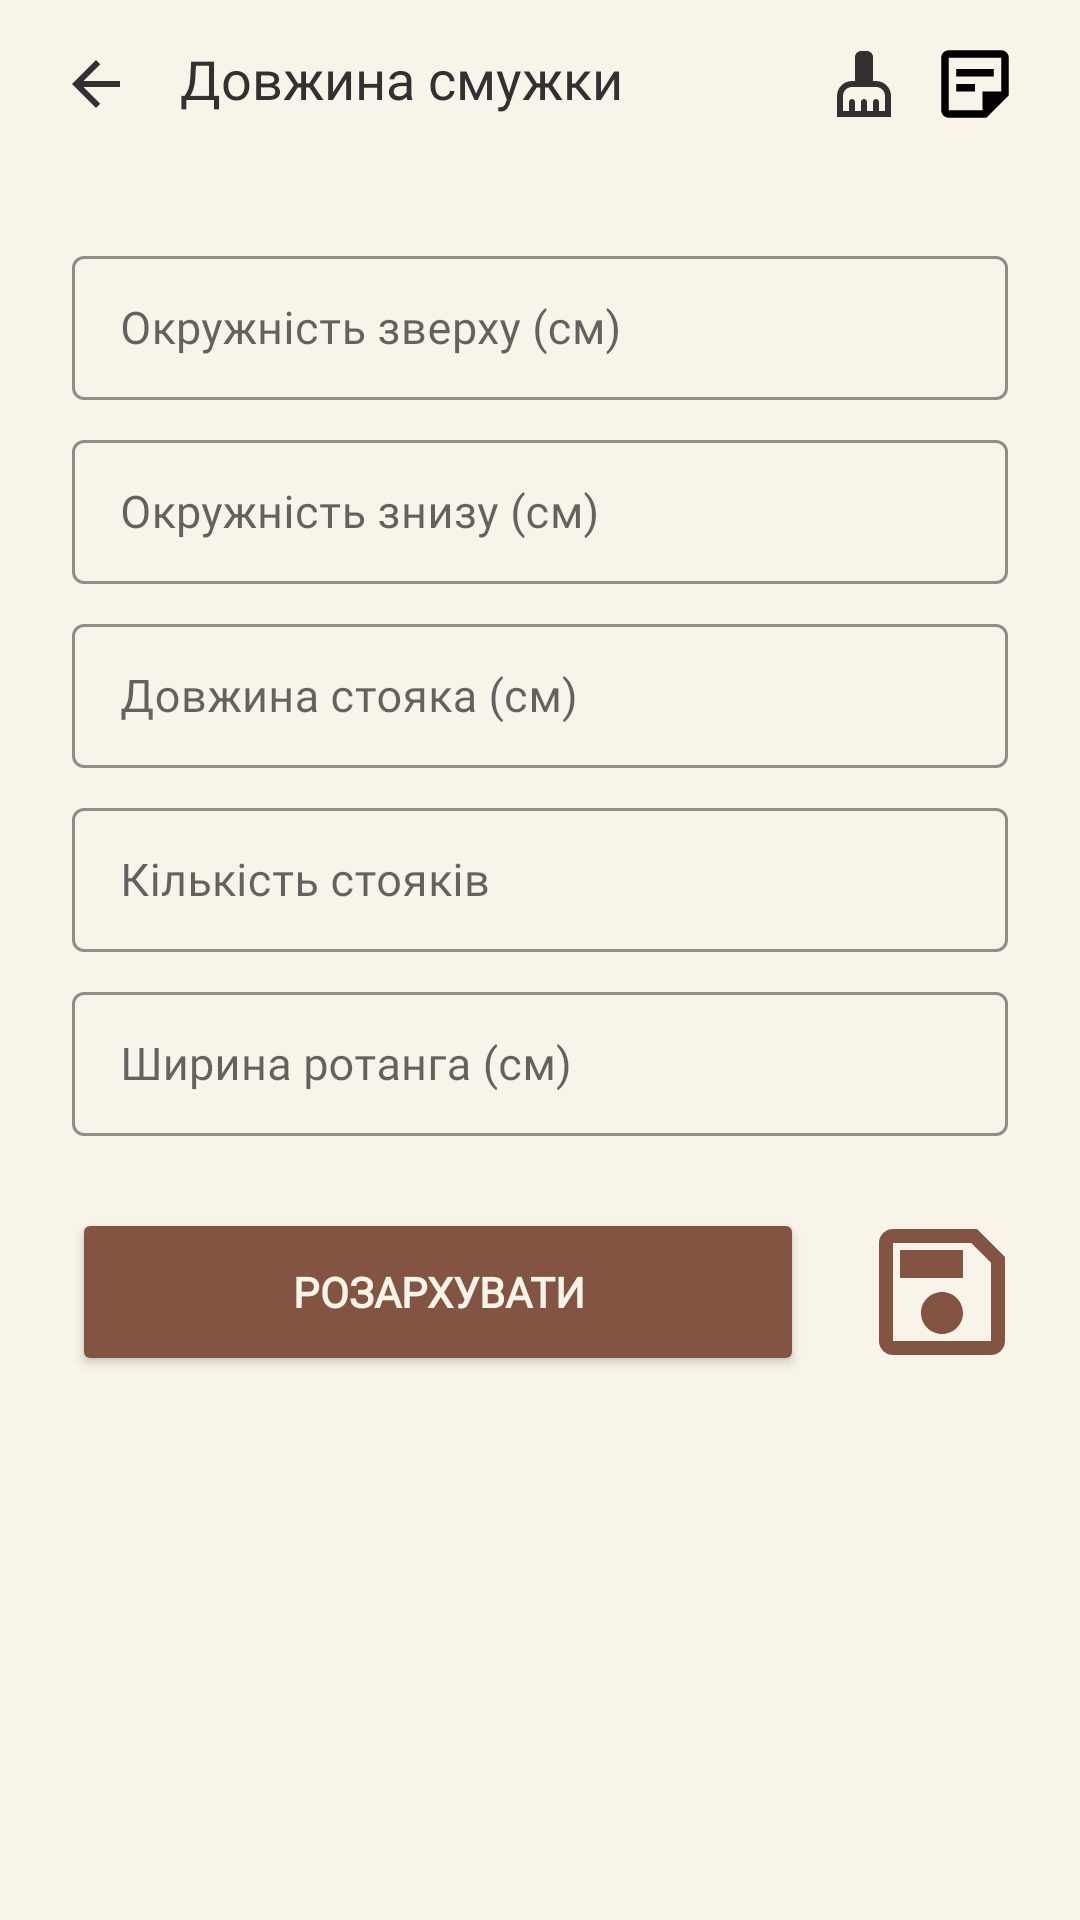

Icons on this 1080 × 1920 Android screen, each with the point to tap as [x,y]:
cleaning: [864,84]
save: [942,1292]
sticky note: [975,84]
Кнопка повернутися назад: [96,84]
